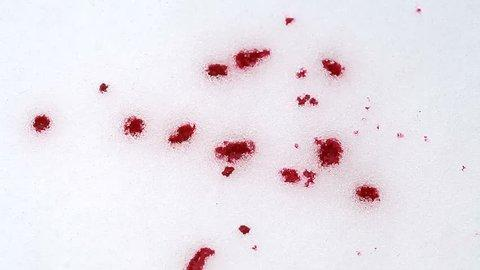knife: (214, 138, 256, 162), (314, 137, 345, 167), (233, 48, 273, 70), (167, 123, 197, 145), (187, 246, 215, 269), (320, 58, 347, 79), (122, 115, 147, 137), (355, 186, 380, 203), (32, 114, 53, 133), (279, 167, 302, 184), (205, 64, 230, 79), (300, 168, 317, 188), (296, 94, 320, 107), (220, 165, 237, 182), (97, 82, 110, 95), (295, 68, 308, 79), (238, 224, 251, 234), (284, 16, 295, 26)
